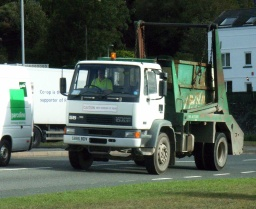truck: (60, 51, 248, 174)
